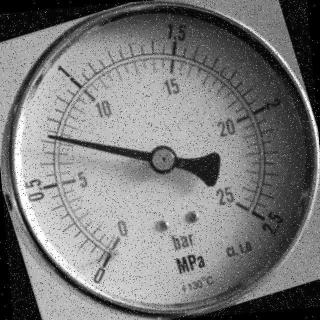gauge: (0, 0, 320, 320), (84, 246, 126, 284), (245, 200, 281, 240), (148, 142, 178, 176), (42, 128, 60, 144)
